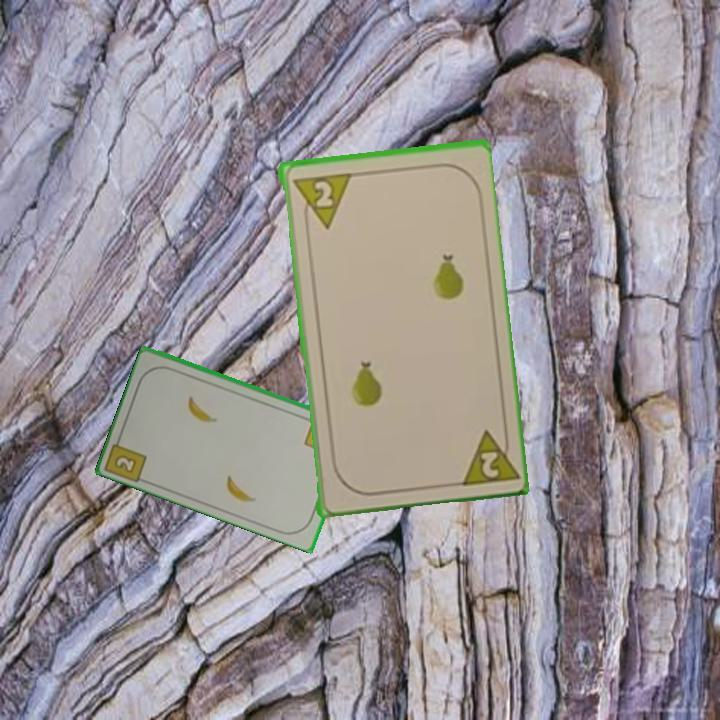2b: (104, 430, 150, 484)
2p: (453, 422, 518, 489), (288, 169, 352, 233)
